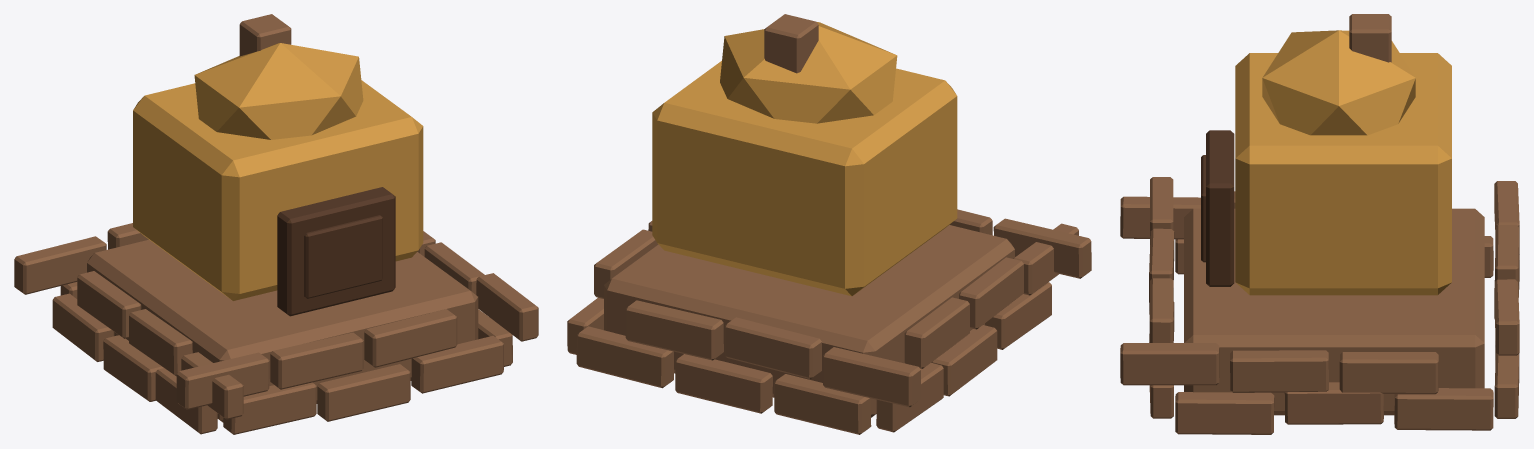
Rendered from prop_clay_oven_a.glb.
The picture shows the model from 3 angles, left to right: view 1: azimuth 30°, elevation 25°; view 2: azimuth 150°, elevation 25°; view 3: azimuth 270°, elevation 25°; orthographic projection. The views are drawn at different scales.
Parts seen in each view (by area): view 1: clay_oven_flue, clay_oven_body, clay_oven_mouth; view 2: clay_oven_flue, clay_oven_body; view 3: clay_oven_flue, clay_oven_body, clay_oven_mouth.
Boxes of the visible parts, x1,y1,x2,y2 form: clay_oven_flue: (14,14,538,434); clay_oven_body: (133,43,423,300); clay_oven_mouth: (277,187,395,316); clay_oven_flue: (567,14,1091,434); clay_oven_body: (652,22,957,296); clay_oven_flue: (1120,14,1519,434); clay_oven_body: (1235,30,1451,295); clay_oven_mouth: (1201,130,1234,286).
Bounding box in the file's own units: 1.78 × 1.56 × 1.7.
